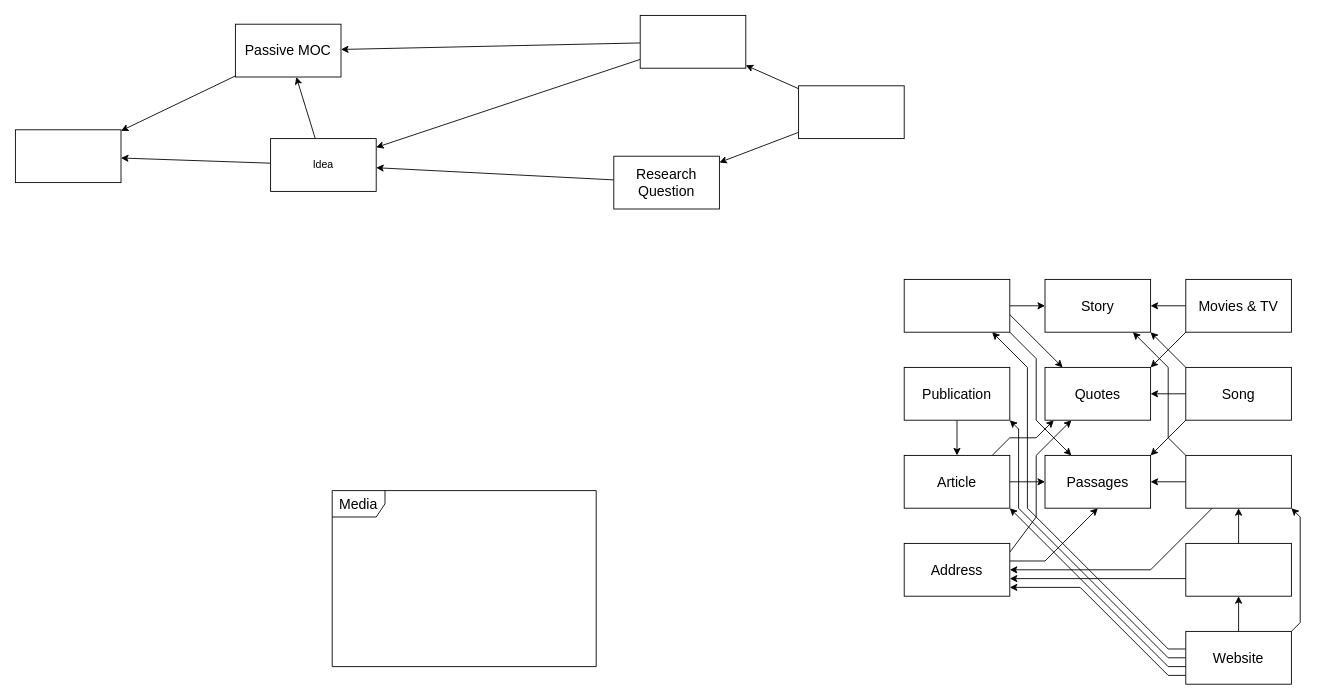
This 1323x700 diagram has some shape labels left out. Here are the shapes that lost their labels. From the top down, the box of each, then its label:
(639, 15, 746, 68): Active MOC
(798, 85, 904, 139): Research Note
(15, 129, 121, 183): Writing
(903, 279, 1010, 332): Book
(1185, 455, 1291, 508): Video
(1185, 543, 1291, 596): Broadcast
